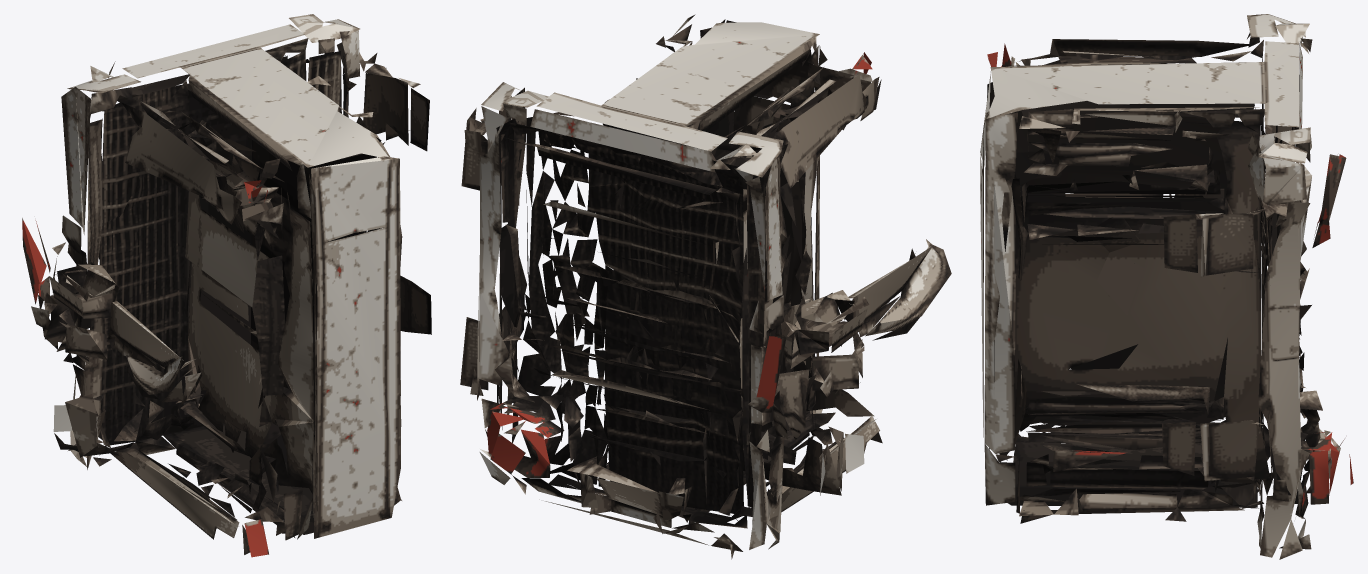
Rendered from mo_coolant.glb.
The picture shows the model from 3 angles, left to right: view 1: azimuth 30°, elevation 25°; view 2: azimuth 150°, elevation 25°; view 3: azimuth 270°, elevation 25°; orthographic projection. The views are drawn at different scales.
Visible parts, largest first — view 1: mo_coolant; view 2: mo_coolant; view 3: mo_coolant.
Boxes of the visible parts, x1,y1,x2,y2 form: mo_coolant: [22, 14, 431, 557]; mo_coolant: [460, 14, 951, 559]; mo_coolant: [980, 14, 1353, 559].
Size of the model in its own units: 0.1924 by 0.1995 by 0.1633.
1 material, 1 textured.
